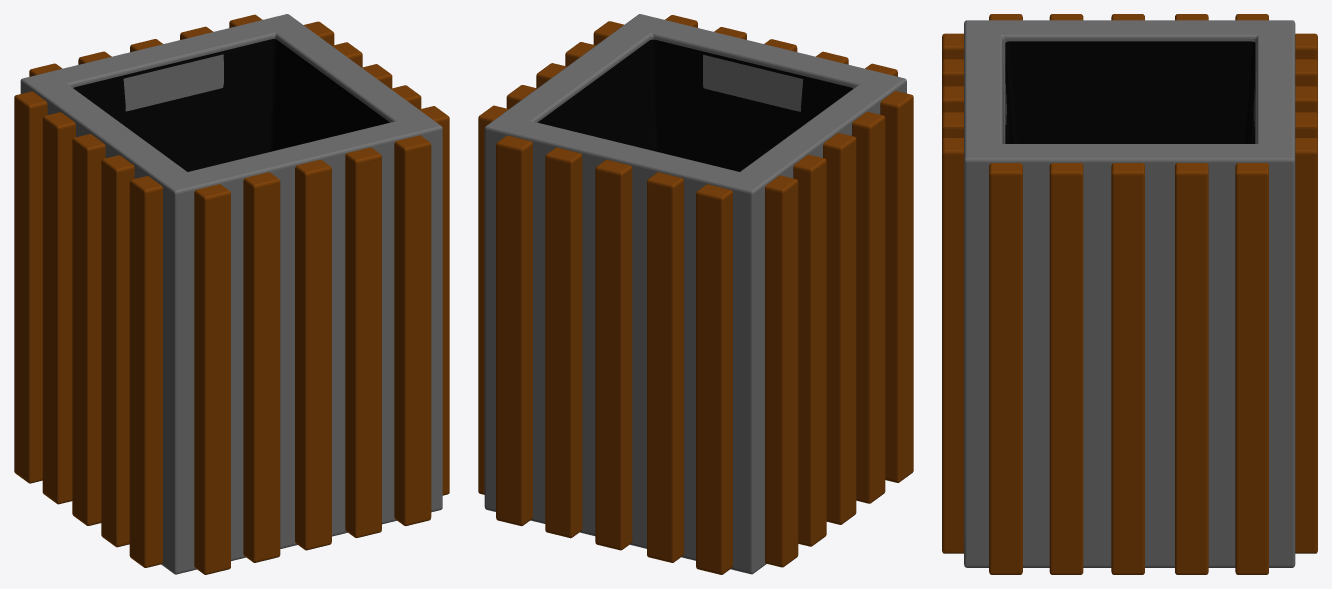
Rendered from Trash.fbx.
The picture shows the model from 3 angles, left to right: view 1: azimuth 30°, elevation 25°; view 2: azimuth 150°, elevation 25°; view 3: azimuth 270°, elevation 25°; orthographic projection. The views are drawn at different scales.
Parts seen in each view (by area): view 1: Куб, Куб.021; view 2: Куб, Куб.021; view 3: Куб, Куб.021.
Part boxes in pixels (x1,y1,x2,y2): Куб: (14, 14, 449, 574); Куб.021: (73, 39, 389, 171); Куб: (478, 14, 913, 574); Куб.021: (538, 39, 852, 171); Куб: (942, 14, 1317, 574); Куб.021: (1005, 41, 1255, 143).
Size of the model in its own units: 244 by 292 by 243.
